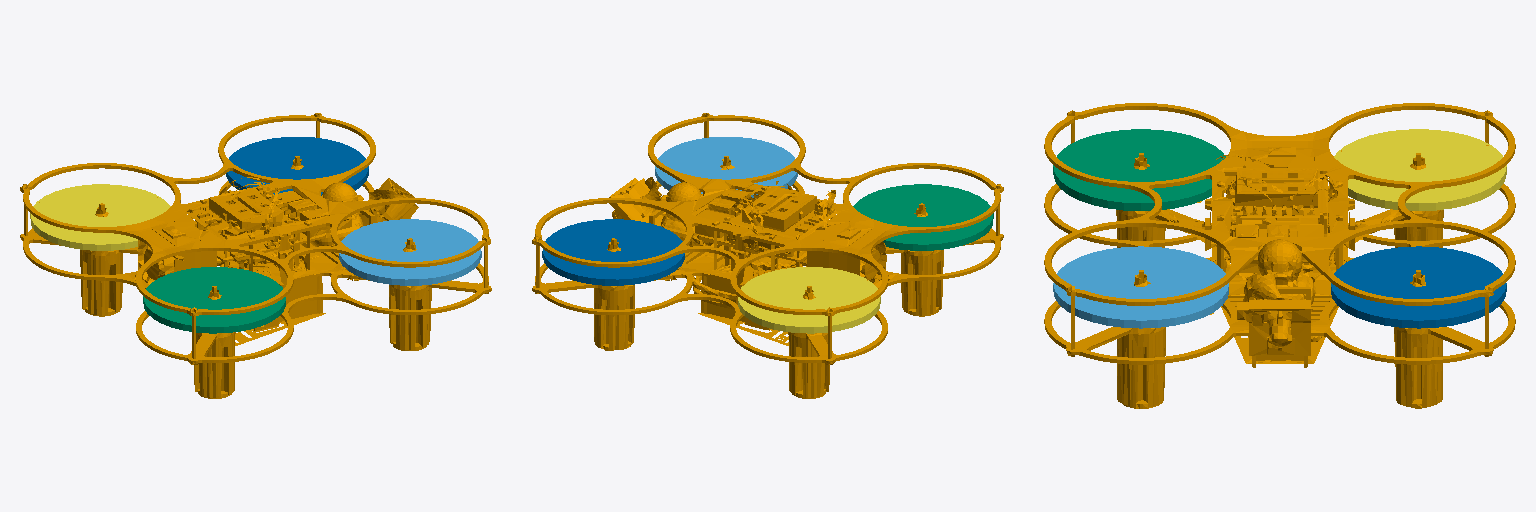
robot.urdf — dd24:
<?xml version="1.0"?>
<!-- Generated by assets/dd24/build_dd24_urdf.py - do not hand-edit, re-run the script.
     total mass 0.82800 kg | arm 0.1133 m
     whole-drone inertia about CG (kg m^2): Ixx=3.5930e-03 Iyy=3.9000e-03 Izz=6.1060e-03 -->
<robot name="dd24">
  <link name="body">
    <inertial>
      <origin xyz="0 0 0" rpy="0 0 0"/>
      <mass value="0.814"/>
      <inertia ixx="0.00348954436" ixy="0" ixz="0" iyy="0.00379654436" iyz="0" izz="0.00590821906"/>
    </inertial>
    <visual>
      <origin xyz="0 0 0" rpy="0 0 0"/>
      <geometry><mesh filename="meshes/dd24_body.obj" scale="1.0 1.0 1.0"/></geometry>
    </visual>
    <collision>
      <origin xyz="0 0 0" rpy="0 0 0"/>
      <geometry><box size="0.272 0.272 0.107"/></geometry>
    </collision>
  </link>
  <link name="m1_prop">
    <inertial>
      <origin xyz="0 0 0" rpy="0 0 0"/>
      <mass value="0.0035"/>
      <inertia ixx="2.26535167e-06" ixy="0" ixz="0" iyy="2.26535167e-06" iyz="0" izz="4.51612e-06"/>
    </inertial>
    <visual>
      <origin xyz="0 0 0" rpy="0 0 0"/>
      <geometry><cylinder radius="0.0508" length="0.005"/></geometry>
    </visual>
  </link>
  <joint name="m1_joint" type="continuous">
    <parent link="body"/>
    <child link="m1_prop"/>
    <origin xyz="0.0801151983 -0.0801151983 0.018" rpy="0 0 0"/>
    <axis xyz="0 0 1"/>
  </joint>
  <link name="m2_prop">
    <inertial>
      <origin xyz="0 0 0" rpy="0 0 0"/>
      <mass value="0.0035"/>
      <inertia ixx="2.26535167e-06" ixy="0" ixz="0" iyy="2.26535167e-06" iyz="0" izz="4.51612e-06"/>
    </inertial>
    <visual>
      <origin xyz="0 0 0" rpy="0 0 0"/>
      <geometry><cylinder radius="0.0508" length="0.005"/></geometry>
    </visual>
  </link>
  <joint name="m2_joint" type="continuous">
    <parent link="body"/>
    <child link="m2_prop"/>
    <origin xyz="-0.0801151983 -0.0801151983 0.018" rpy="0 0 0"/>
    <axis xyz="0 0 1"/>
  </joint>
  <link name="m3_prop">
    <inertial>
      <origin xyz="0 0 0" rpy="0 0 0"/>
      <mass value="0.0035"/>
      <inertia ixx="2.26535167e-06" ixy="0" ixz="0" iyy="2.26535167e-06" iyz="0" izz="4.51612e-06"/>
    </inertial>
    <visual>
      <origin xyz="0 0 0" rpy="0 0 0"/>
      <geometry><cylinder radius="0.0508" length="0.005"/></geometry>
    </visual>
  </link>
  <joint name="m3_joint" type="continuous">
    <parent link="body"/>
    <child link="m3_prop"/>
    <origin xyz="-0.0801151983 0.0801151983 0.018" rpy="0 0 0"/>
    <axis xyz="0 0 1"/>
  </joint>
  <link name="m4_prop">
    <inertial>
      <origin xyz="0 0 0" rpy="0 0 0"/>
      <mass value="0.0035"/>
      <inertia ixx="2.26535167e-06" ixy="0" ixz="0" iyy="2.26535167e-06" iyz="0" izz="4.51612e-06"/>
    </inertial>
    <visual>
      <origin xyz="0 0 0" rpy="0 0 0"/>
      <geometry><cylinder radius="0.0508" length="0.005"/></geometry>
    </visual>
  </link>
  <joint name="m4_joint" type="continuous">
    <parent link="body"/>
    <child link="m4_prop"/>
    <origin xyz="0.0801151983 0.0801151983 0.018" rpy="0 0 0"/>
    <axis xyz="0 0 1"/>
  </joint>
</robot>

--- Render facts (derived) ---
The picture shows the robot from 3 angles, left to right: view 1: azimuth 30°, elevation 25°; view 2: azimuth 150°, elevation 25°; view 3: azimuth 270°, elevation 25°; orthographic projection.
Model dd24 with 5 links and 4 joints (4 continuous), rooted at body, posed all joints at 0.
Visible links, largest first — view 1: body, m1_prop, m2_prop, m3_prop, m4_prop; view 2: body, m4_prop, m3_prop, m2_prop, m1_prop; view 3: body, m4_prop, m1_prop, m3_prop, m2_prop.
Boxes of the visible links, <box> form: body: <box>20,113,491,398</box>; m1_prop: <box>339,219,481,285</box>; m2_prop: <box>143,267,285,333</box>; m3_prop: <box>30,184,170,250</box>; m4_prop: <box>226,137,368,195</box>; body: <box>532,113,1003,398</box>; m4_prop: <box>542,219,684,285</box>; m3_prop: <box>738,267,880,333</box>; m2_prop: <box>853,184,993,250</box>; m1_prop: <box>655,137,797,197</box>; body: <box>1044,103,1515,408</box>; m4_prop: <box>1331,246,1506,328</box>; m1_prop: <box>1053,246,1228,328</box>; m3_prop: <box>1334,129,1506,210</box>; m2_prop: <box>1053,129,1225,210</box>.
Bounding box of the posed robot: 0.272 × 0.272 × 0.1074 m (x, y, z).
Meshes: 1 distinct files referenced, 1 mesh visuals loaded (1 OBJ).
